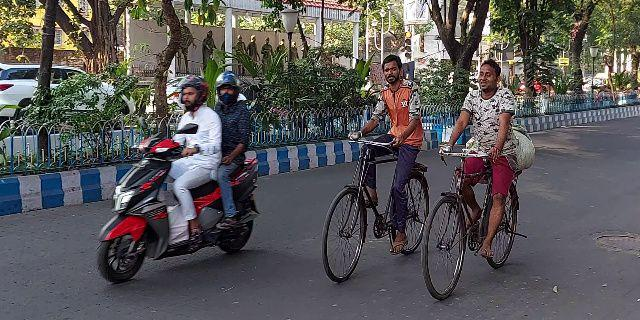Cycle: (418, 61, 535, 300), (321, 50, 430, 283)
Motorbike: (94, 71, 258, 284)
